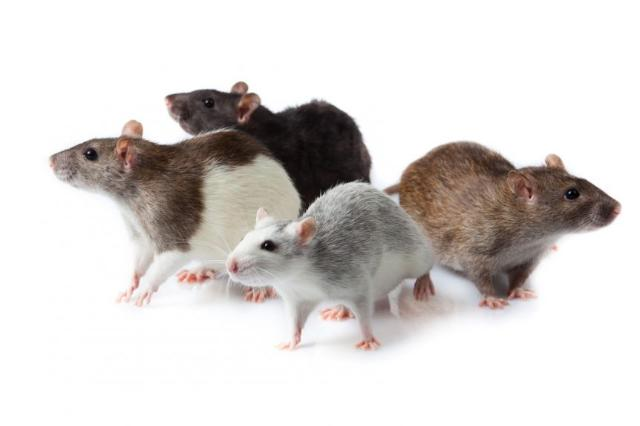rat: (380, 133, 626, 316), (217, 174, 447, 358), (39, 116, 237, 308), (160, 72, 374, 192)
